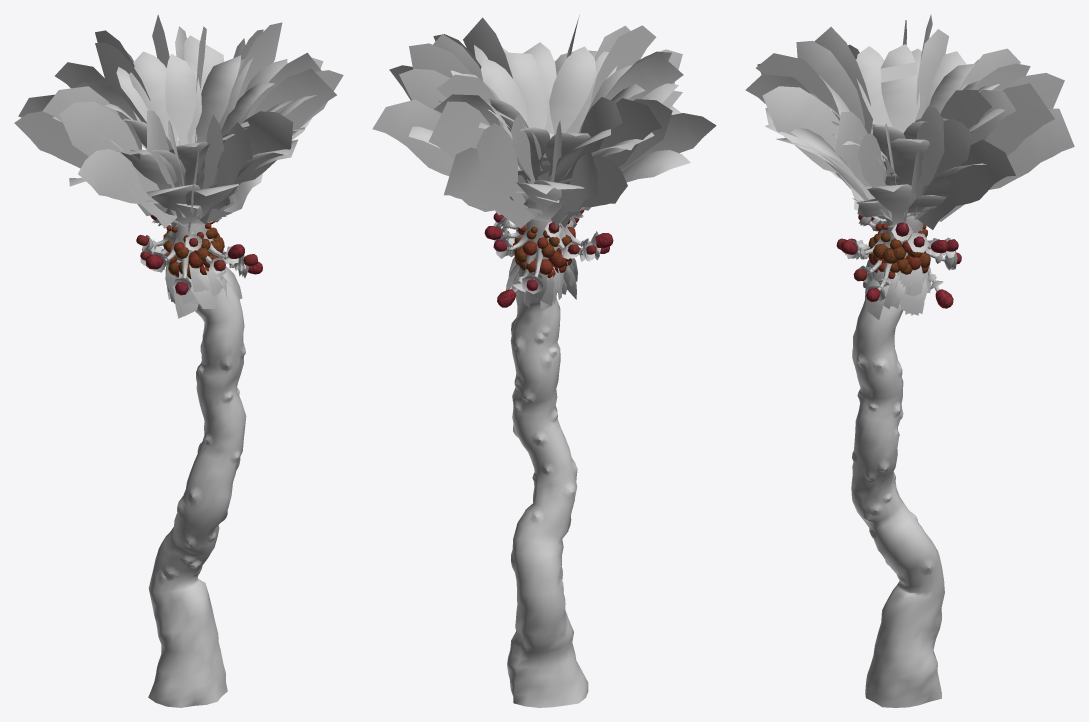
File: Tree6_2.fbx
3 views of the same model, side by side, from view 1: azimuth 30°, elevation 25°; view 2: azimuth 150°, elevation 25°; view 3: azimuth 270°, elevation 25° (orthographic).
Parts seen in each view (by area): view 1: polySurface70; view 2: polySurface70; view 3: polySurface70.
Boxes of the visible parts, x1,y1,x2,y2 form: polySurface70: (14, 14, 343, 707); polySurface70: (372, 15, 716, 707); polySurface70: (745, 15, 1074, 707).
Size of the model in its own units: 660 by 1395 by 658.
